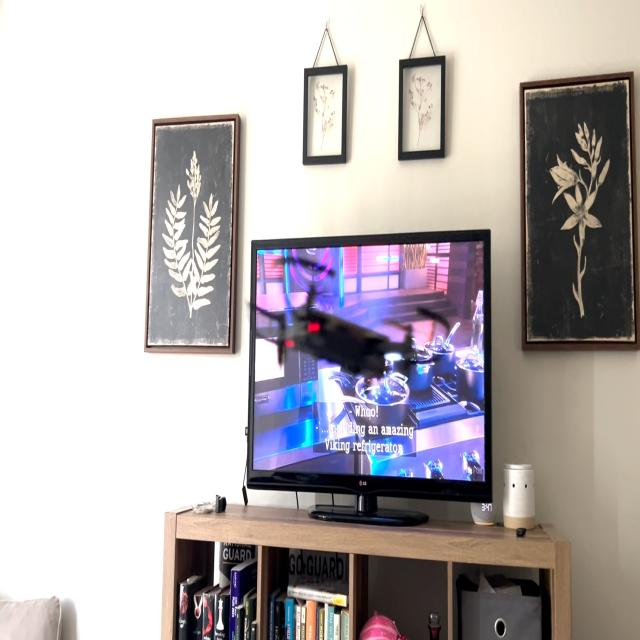drone: (239, 242, 455, 418)
